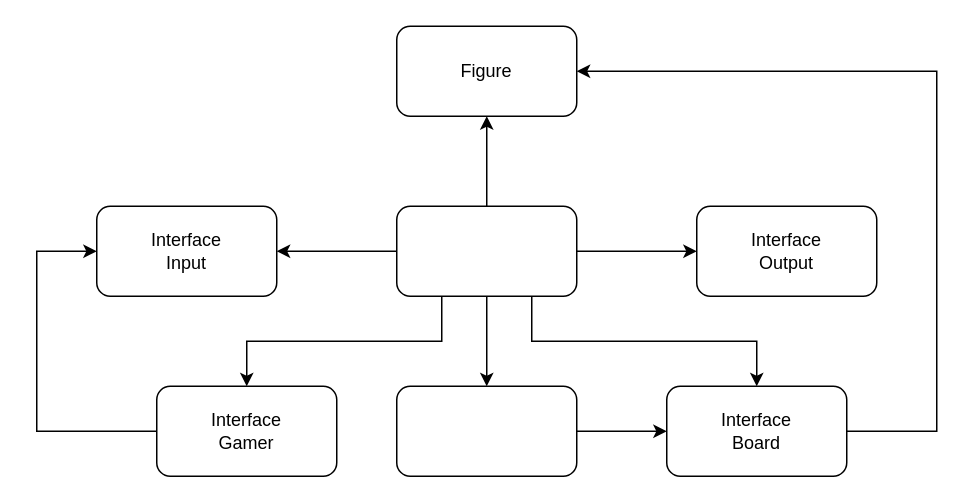
Some shapes in this 975 by 503 pixel diagram are drawn without their labels. Each missing label, with the centre of its shape:
Interface Logic: [486,430]
Interface Play: [486,250]
